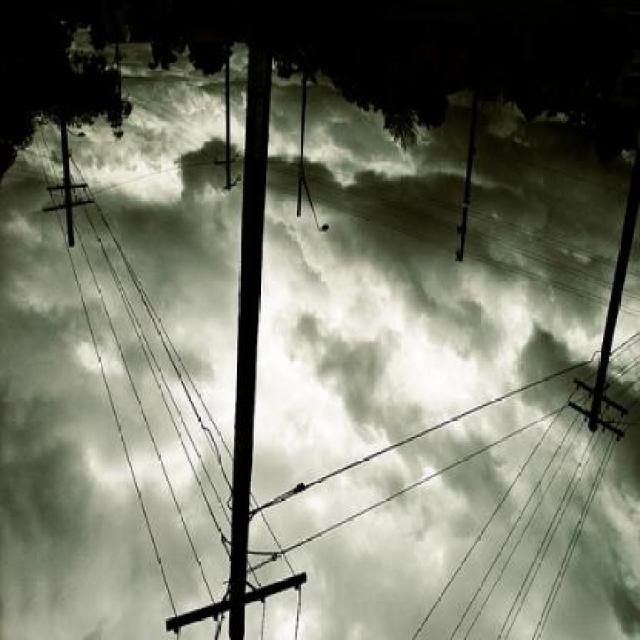pole: (171, 24, 332, 627)
